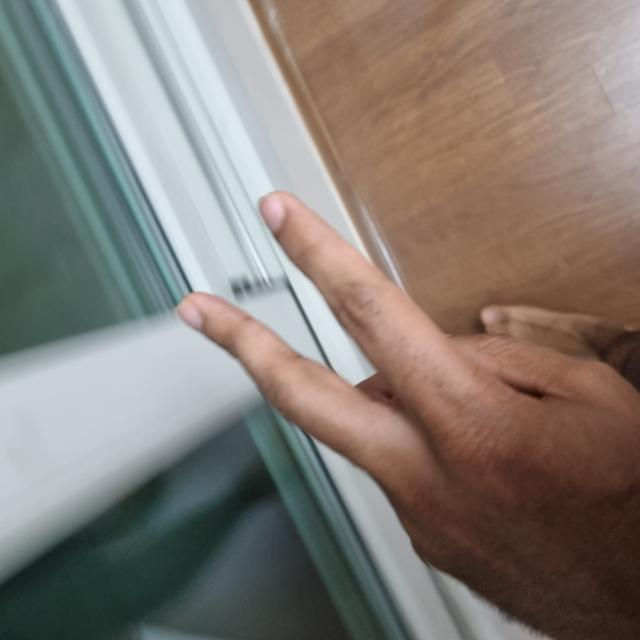Scissors: (0, 177, 446, 639)
